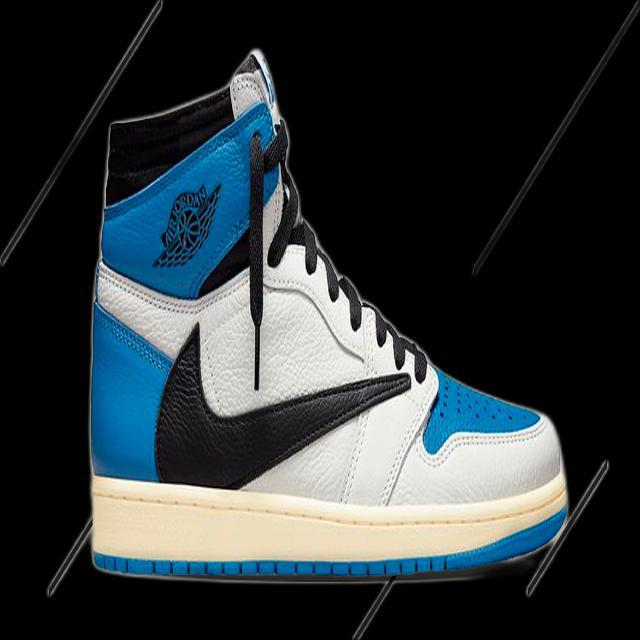J1_InsoleChar: (83, 45, 572, 589)
J1_ShoeLogo: (151, 181, 222, 269)
J1_StitchPattern: (86, 467, 571, 582), (241, 125, 430, 388), (93, 247, 430, 387), (151, 320, 413, 488), (297, 218, 430, 385), (225, 64, 303, 268), (242, 124, 287, 391), (152, 323, 226, 477), (91, 553, 451, 579), (92, 298, 173, 375), (361, 301, 429, 383), (226, 69, 268, 120)
